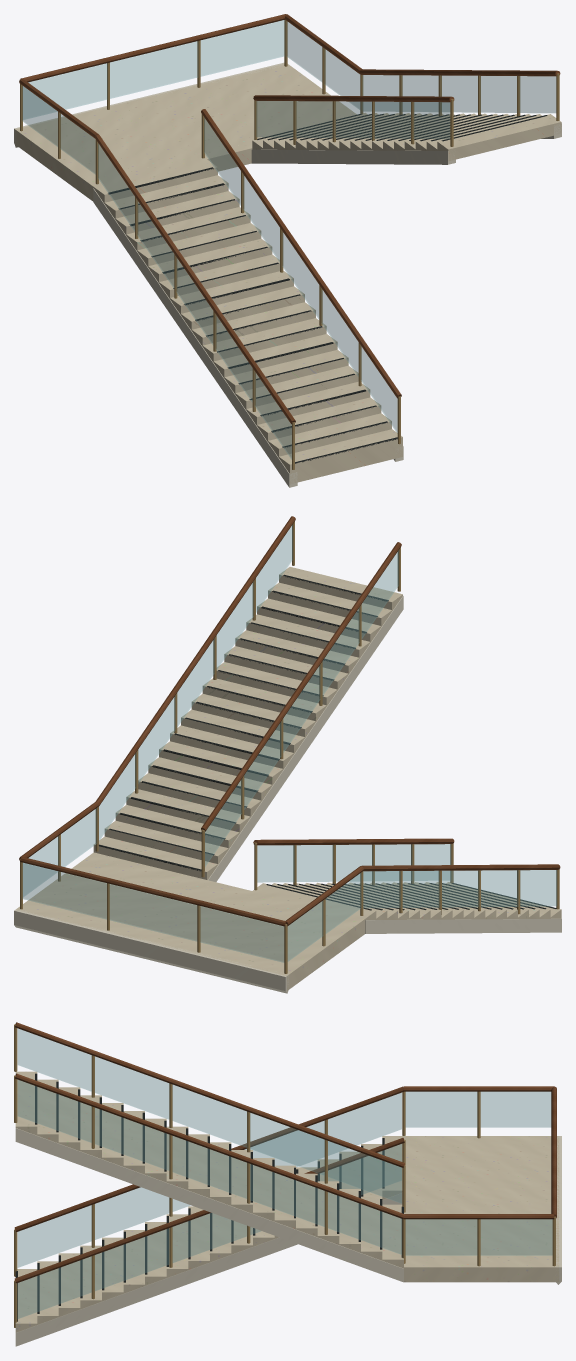
The model's file is AST-CIR-001_H600.glb.
3 renders of one model, top to bottom at view 1: azimuth 30°, elevation 25°; view 2: azimuth 150°, elevation 25°; view 3: azimuth 270°, elevation 25°, orthographic.
Visible parts, largest first — view 1: CIR_Flight_0, CIR_MidLanding, CIR_GuardLandingRear, CIR_Flight_1, CIR_Guard_1_0, CIR_Guard_0_0, CIR_Guard_0_1, CIR_Guard_1_1, CIR_ProfiledStringer_0_0, CIR_ProfiledStringer_1_0, CIR_GuardLandingSide_0.08, CIR_GuardLandingSide_5.92 (+8 smaller); view 2: CIR_Flight_1, CIR_MidLanding, CIR_GuardLandingRear, CIR_Guard_0_0, CIR_Guard_1_0, CIR_Guard_1_1, CIR_Flight_0, CIR_Guard_0_1, CIR_LandingFascia, CIR_ProfiledStringer_1_0, CIR_ProfiledStringer_0_0, CIR_GuardLandingSide_0.08 (+8 smaller); view 3: CIR_MidLanding, CIR_Flight_1, CIR_Flight_0, CIR_Guard_1_0, CIR_Guard_1_1, CIR_Guard_0_1, CIR_Guard_0_0, CIR_ProfiledStringer_1_1, CIR_GuardLandingSide_5.92, CIR_GuardLandingSide_0.08, CIR_ProfiledStringer_0_1, CIR_Handrail_1_0 (+7 smaller).
Boxes of the visible parts, <box> form: CIR_Flight_0: <box>93,159,402,484</box>; CIR_MidLanding: <box>15,64,356,201</box>; CIR_GuardLandingRear: <box>23,20,284,119</box>; CIR_Flight_1: <box>252,113,561,161</box>; CIR_Guard_1_0: <box>256,101,449,138</box>; CIR_Guard_0_0: <box>98,143,291,459</box>; CIR_Guard_0_1: <box>204,117,397,433</box>; CIR_Guard_1_1: <box>362,75,555,112</box>; CIR_ProfiledStringer_0_0: <box>93,188,297,487</box>; CIR_ProfiledStringer_1_0: <box>251,149,455,164</box>; CIR_GuardLandingSide_0.08: <box>22,86,95,174</box>; CIR_GuardLandingSide_5.92: <box>286,21,359,109</box>; CIR_Flight_1: <box>93,567,402,879</box>; CIR_MidLanding: <box>16,852,365,990</box>; CIR_GuardLandingRear: <box>22,863,283,962</box>; CIR_Guard_0_0: <box>363,870,556,907</box>; CIR_Guard_1_0: <box>205,550,398,866</box>; CIR_Guard_1_1: <box>99,525,292,840</box>; CIR_Flight_0: <box>253,882,561,919</box>; CIR_Guard_0_1: <box>257,844,450,882</box>; CIR_LandingFascia: <box>14,909,288,993</box>; CIR_ProfiledStringer_1_0: <box>208,596,403,881</box>; CIR_ProfiledStringer_0_0: <box>365,918,561,933</box>; CIR_GuardLandingSide_0.08: <box>288,873,361,961</box>; CIR_MidLanding: <box>404,1136,559,1282</box>; CIR_Flight_1: <box>15,1071,403,1268</box>; CIR_Flight_0: <box>15,1136,403,1332</box>; CIR_Guard_1_0: <box>18,1028,401,1203</box>; CIR_Guard_1_1: <box>18,1080,401,1254</box>; CIR_Guard_0_1: <box>18,1144,401,1318</box>; CIR_Guard_0_0: <box>18,1093,401,1267</box>; CIR_ProfiledStringer_1_1: <box>15,1128,403,1282</box>; CIR_GuardLandingSide_5.92: <box>405,1219,552,1255</box>; CIR_GuardLandingSide_0.08: <box>405,1092,550,1127</box>; CIR_ProfiledStringer_0_1: <box>15,1193,402,1346</box>; CIR_Handrail_1_0: <box>15,1022,404,1167</box>.
Size of the model in its own units: 6.02 by 7.41 by 10.58.
6 materials, 5 textured.
